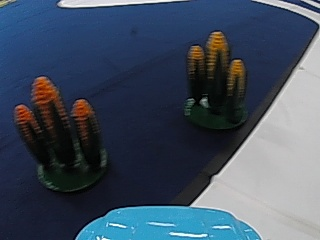corn: (20, 76, 107, 193), (183, 31, 250, 133)
